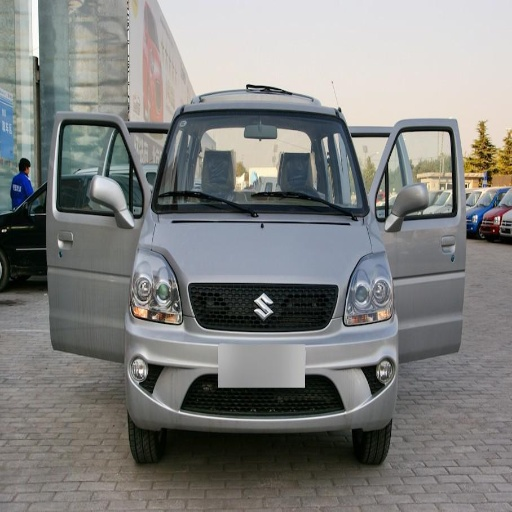front_bumper: (128, 275, 393, 431)
front_glass: (154, 114, 366, 223)
front_left_door: (389, 145, 432, 219), (412, 229, 446, 279)
front_left_light: (343, 255, 393, 326)
front_right_door: (60, 128, 142, 330)
front_right_light: (132, 251, 183, 324)
hood: (157, 213, 372, 283)
